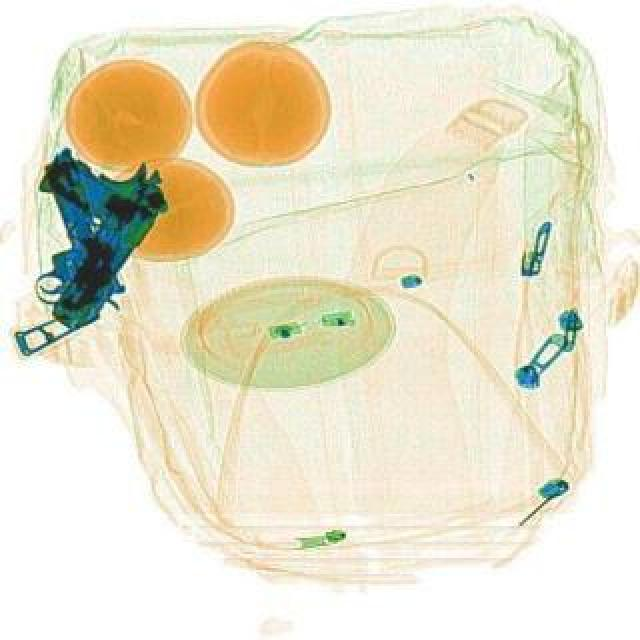gun: (0, 130, 182, 330), (0, 144, 130, 340)
